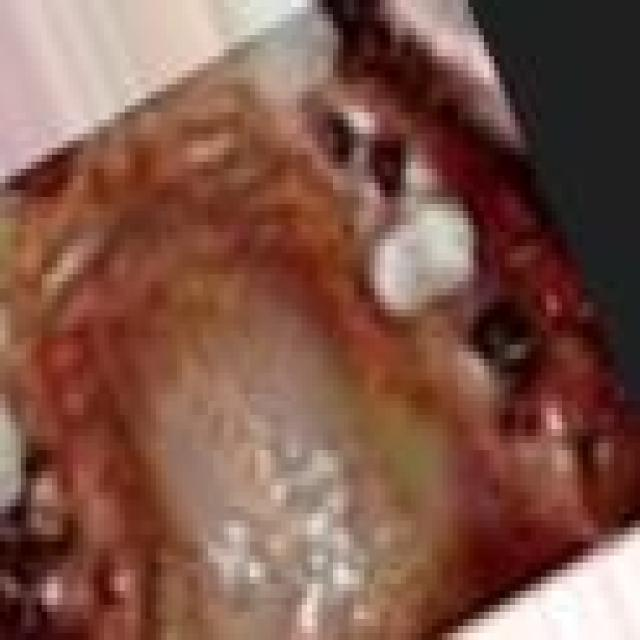caries: (292, 92, 420, 208), (449, 254, 551, 398)
